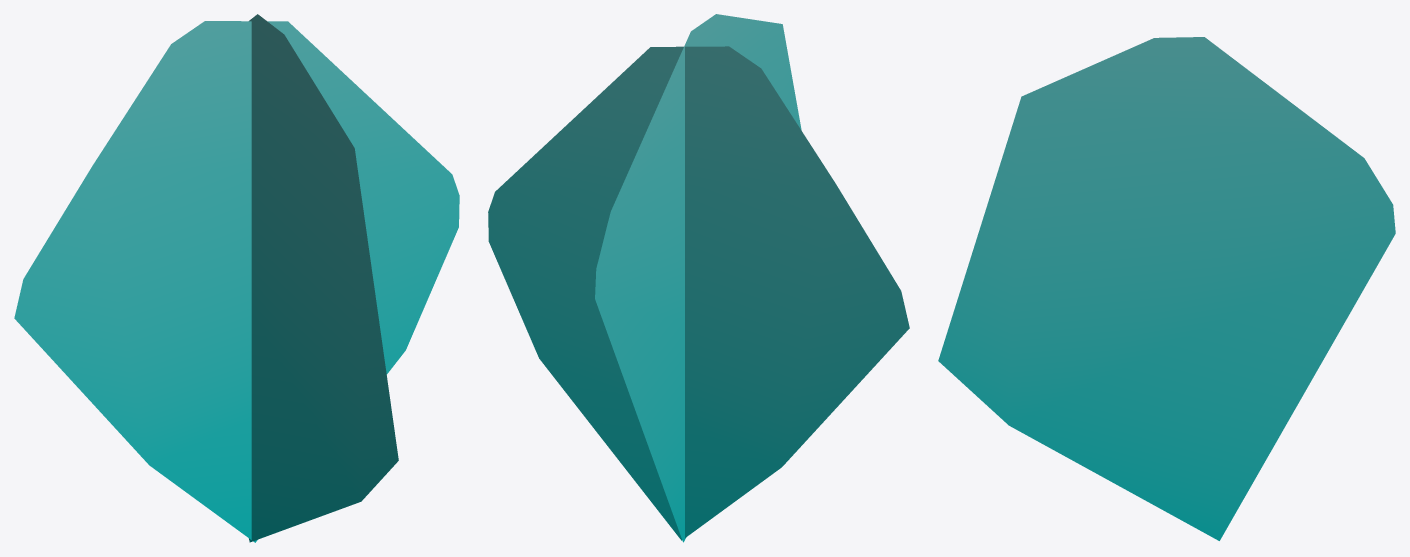
File: RoseHipBushBillboard.fbx
3 views of the same model, side by side, from view 1: azimuth 30°, elevation 25°; view 2: azimuth 150°, elevation 25°; view 3: azimuth 270°, elevation 25° (orthographic). The views are drawn at different scales.
Parts seen in each view (by area): view 1: _b9hb_VarA_LOD5; view 2: _b9hb_VarA_LOD5; view 3: _b9hb_VarA_LOD5.
Boxes of the visible parts, <box> form: _b9hb_VarA_LOD5: <box>14,14,459,542</box>; _b9hb_VarA_LOD5: <box>488,14,909,542</box>; _b9hb_VarA_LOD5: <box>938,37,1395,540</box>.
Size of the model in its own units: 112 by 128 by 106.
